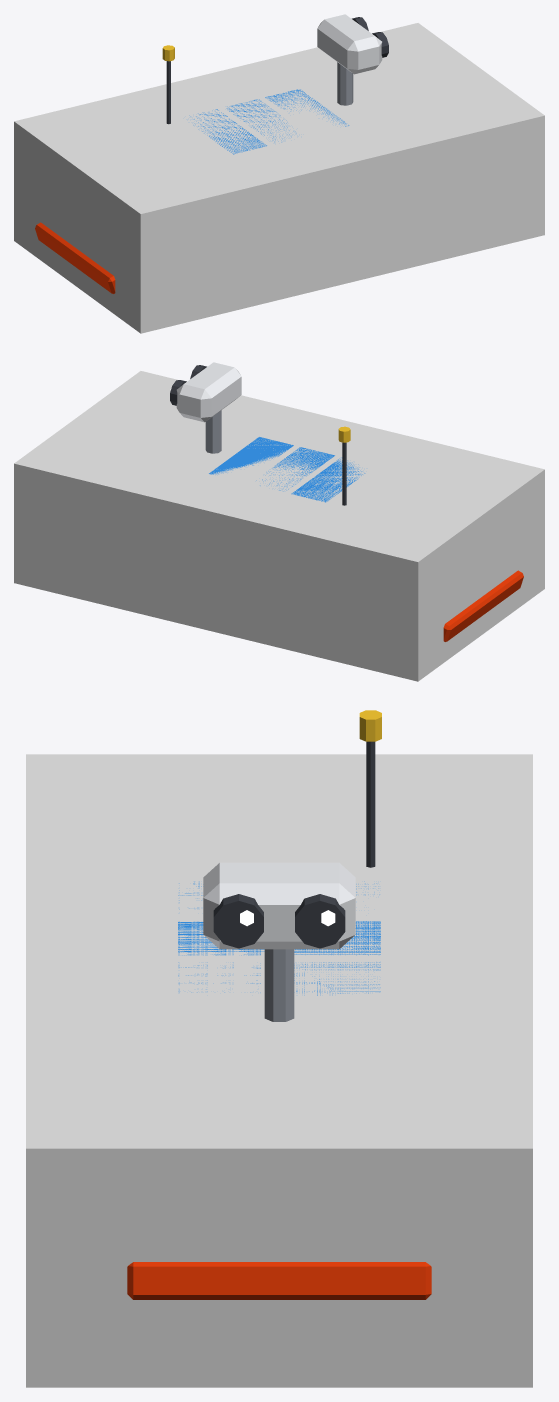
The model's file is Digger.glb.
The picture shows the model from 3 angles, top to bottom: view 1: azimuth 30°, elevation 25°; view 2: azimuth 150°, elevation 25°; view 3: azimuth 270°, elevation 25°; orthographic projection. The views are drawn at different scales.
Visible parts, largest first — view 1: COL_Body, Digger_White.001, Digger_Sky.001, Digger_Red.001, Digger_Dark.001, Digger_Grey.001; view 2: COL_Body, Digger_Sky.001, Digger_White.001, Digger_Red.001, Digger_Dark.001, Digger_Grey.001; view 3: COL_Body, Digger_Red.001, Digger_White.001, Digger_Dark.001, Digger_Sky.001, Digger_Grey.001.
Boxes of the visible parts, left/top/right/bottom form: COL_Body: left=14, top=23, right=544, bottom=333; Digger_White.001: left=317, top=14, right=382, bottom=74; Digger_Sky.001: left=189, top=89, right=349, bottom=154; Digger_Red.001: left=35, top=222, right=115, bottom=293; Digger_Dark.001: left=166, top=17, right=388, bottom=124; Digger_Grey.001: left=337, top=62, right=353, bottom=105; COL_Body: left=14, top=371, right=544, bottom=681; Digger_Sky.001: left=209, top=437, right=365, bottom=502; Digger_White.001: left=176, top=362, right=241, bottom=422; Digger_Red.001: left=443, top=570, right=523, bottom=641; Digger_Dark.001: left=170, top=365, right=346, bottom=505; Digger_Grey.001: left=205, top=410, right=221, bottom=453; COL_Body: left=26, top=754, right=532, bottom=1387; Digger_Red.001: left=127, top=1262, right=431, bottom=1299; Digger_White.001: left=203, top=862, right=355, bottom=949; Digger_Dark.001: left=213, top=741, right=375, bottom=948; Digger_Sky.001: left=178, top=881, right=380, bottom=995; Digger_Grey.001: left=264, top=949, right=294, bottom=1021.
Size of the model in its own units: 4.73 by 2.19 by 2.5.
